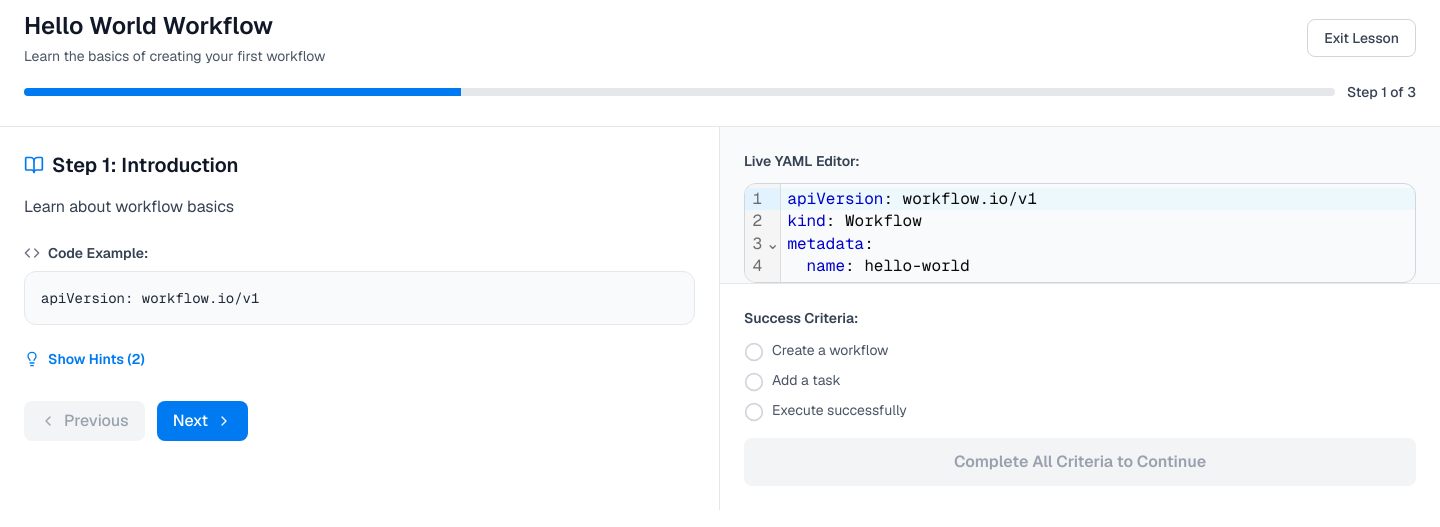
Test: LessonViewer › Step Navigation › should navigate to previous step when Previous is clicked
The width and height of the screenshot is (1440, 527).
# Go to step 2
Click the button with test id "next-step-button" at (202, 421), box [157,401,248,441]
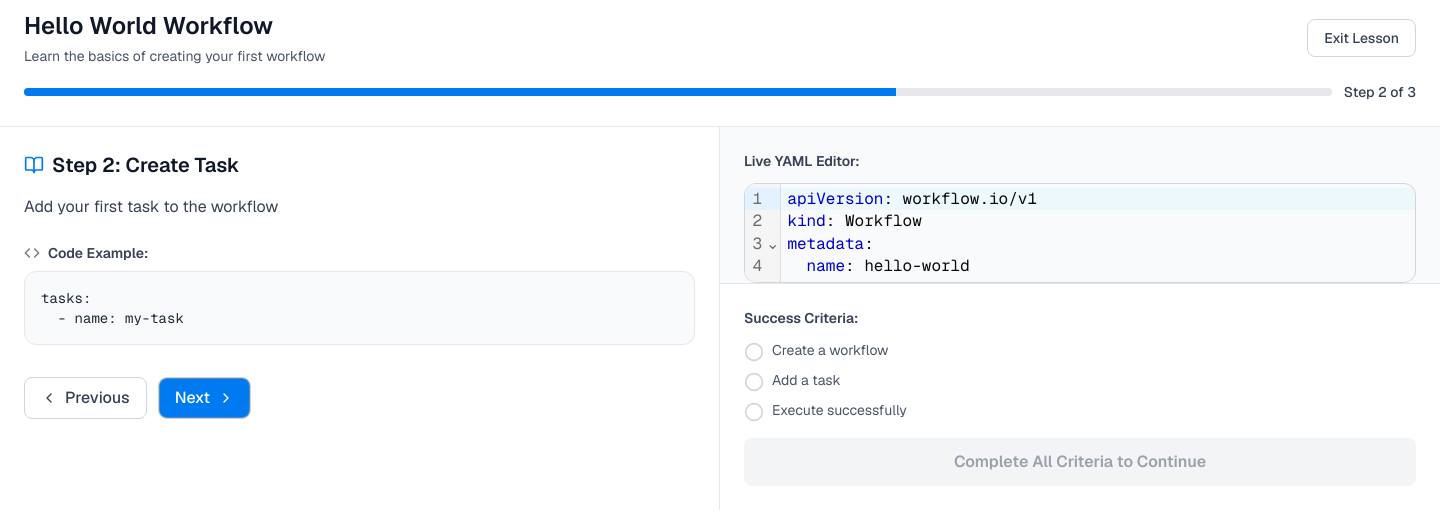
Now the heading "Step 2: Create Task" is shown, box [52,151,240,179]
# Go back to step 1
Click the button with test id "previous-step-button" at (85, 398), box [24,377,147,419]
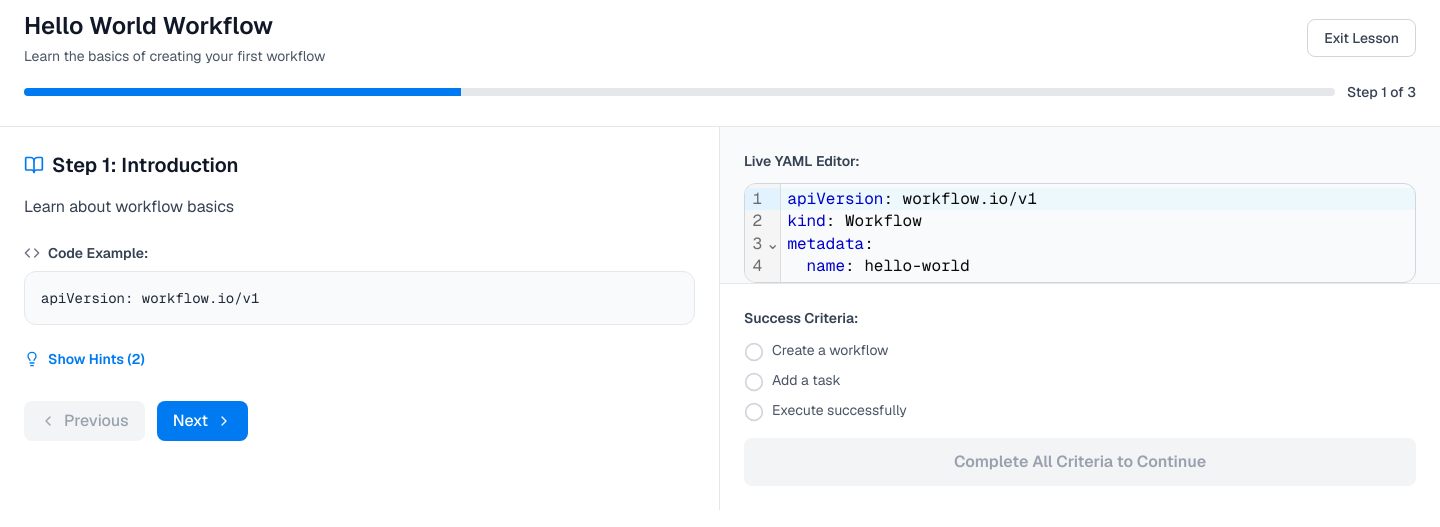
Now the heading "Step 1: Introduction" is shown, box [52,151,239,179]
